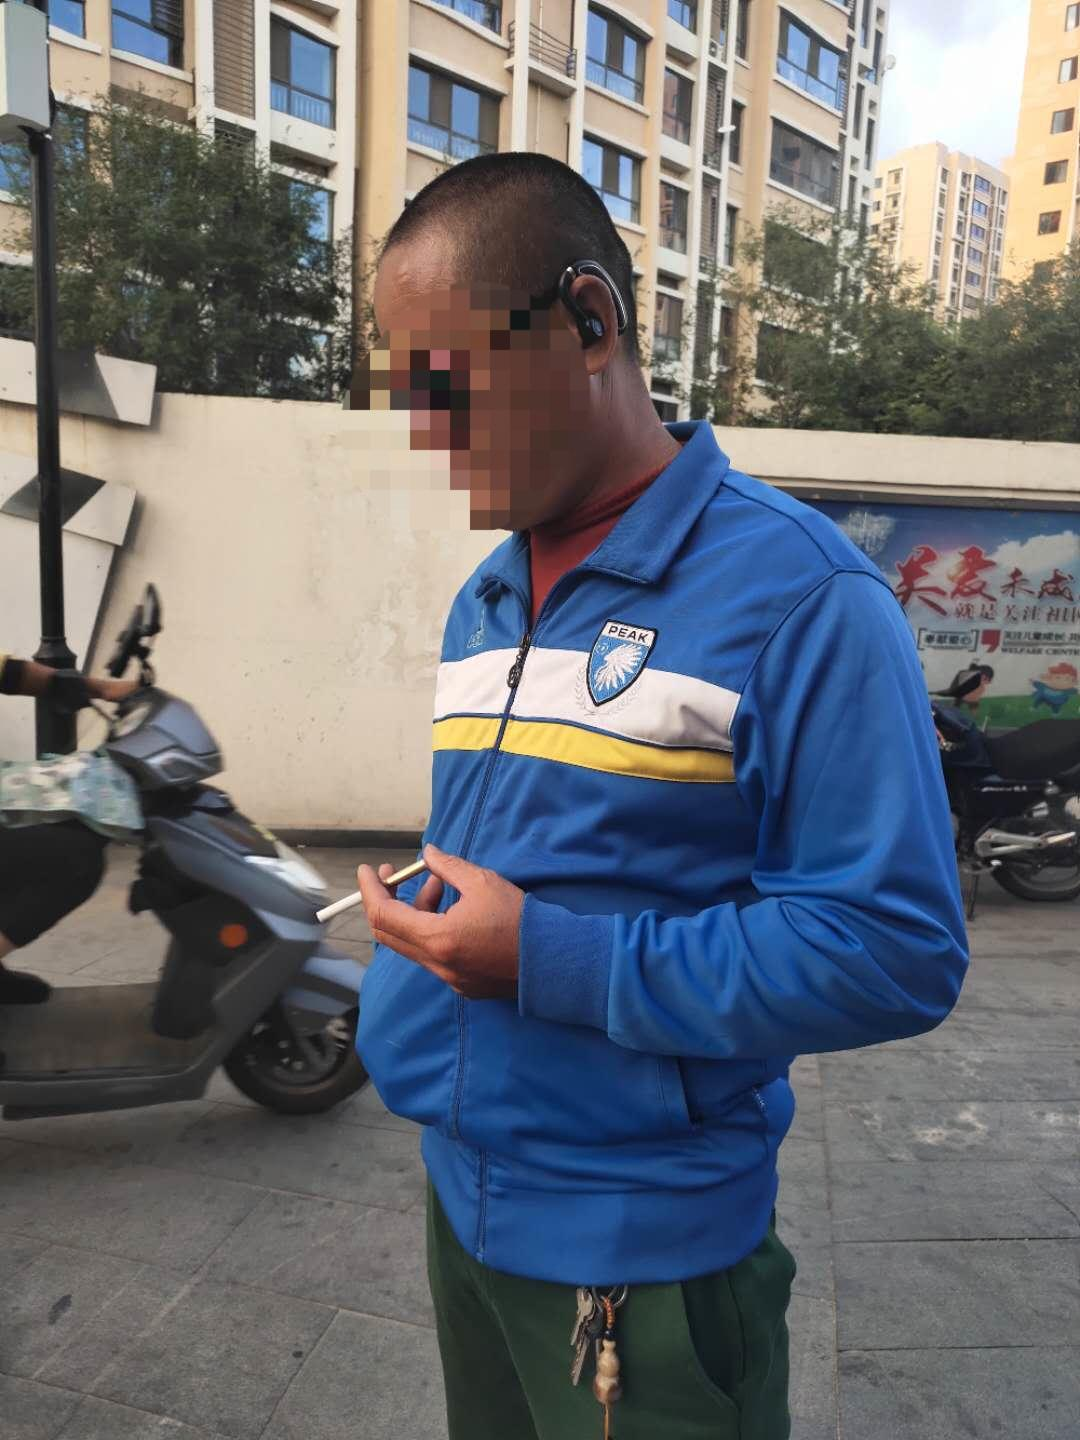smoke: (312, 864, 429, 924)
